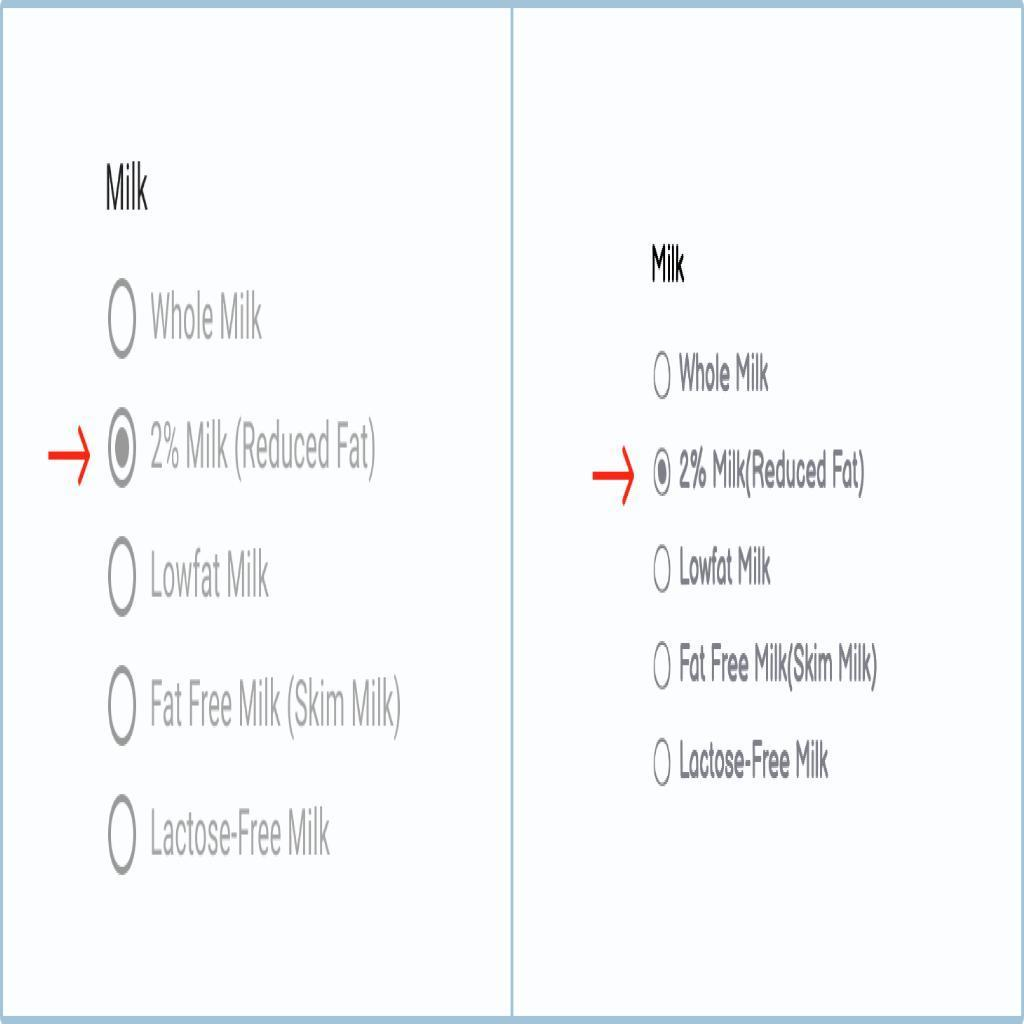label: (147, 671, 405, 746), (150, 414, 382, 488), (678, 642, 880, 694), (147, 805, 334, 860), (677, 447, 867, 500), (149, 544, 275, 604), (679, 736, 831, 785), (148, 289, 267, 344), (675, 348, 772, 397), (678, 542, 774, 590)
radio: (103, 788, 143, 886), (106, 534, 140, 619), (107, 662, 139, 750), (107, 405, 139, 492), (109, 276, 137, 366), (650, 736, 678, 791), (651, 640, 676, 694), (653, 445, 674, 500), (653, 544, 674, 598), (653, 353, 674, 402)
